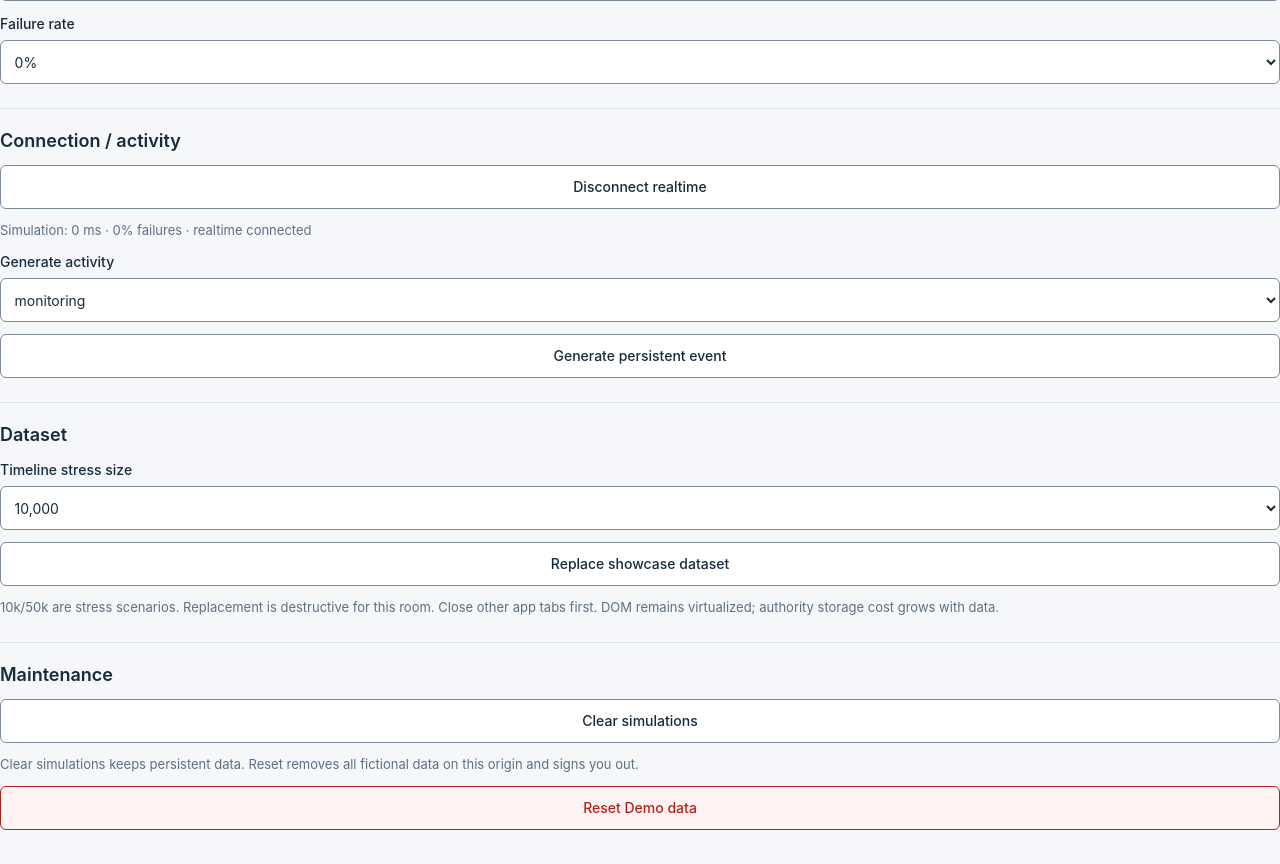
Test: destructive reset requires an explicit decision and cancellation does not remove any data
(page scrolled)
Click the button "Reset Demo data": (640, 808) [0,786,1279,830]
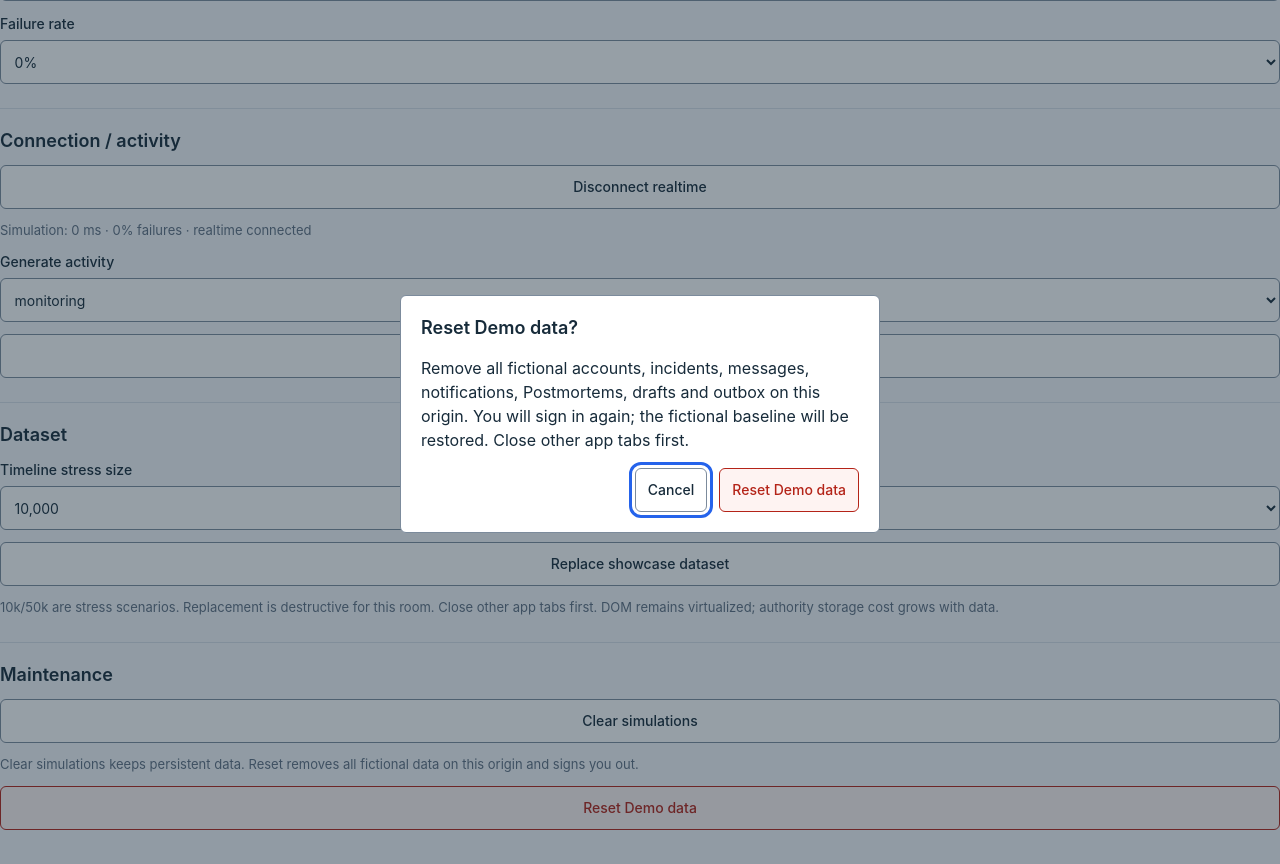
Click the button "Cancel": (671, 490) [635,468,707,512]
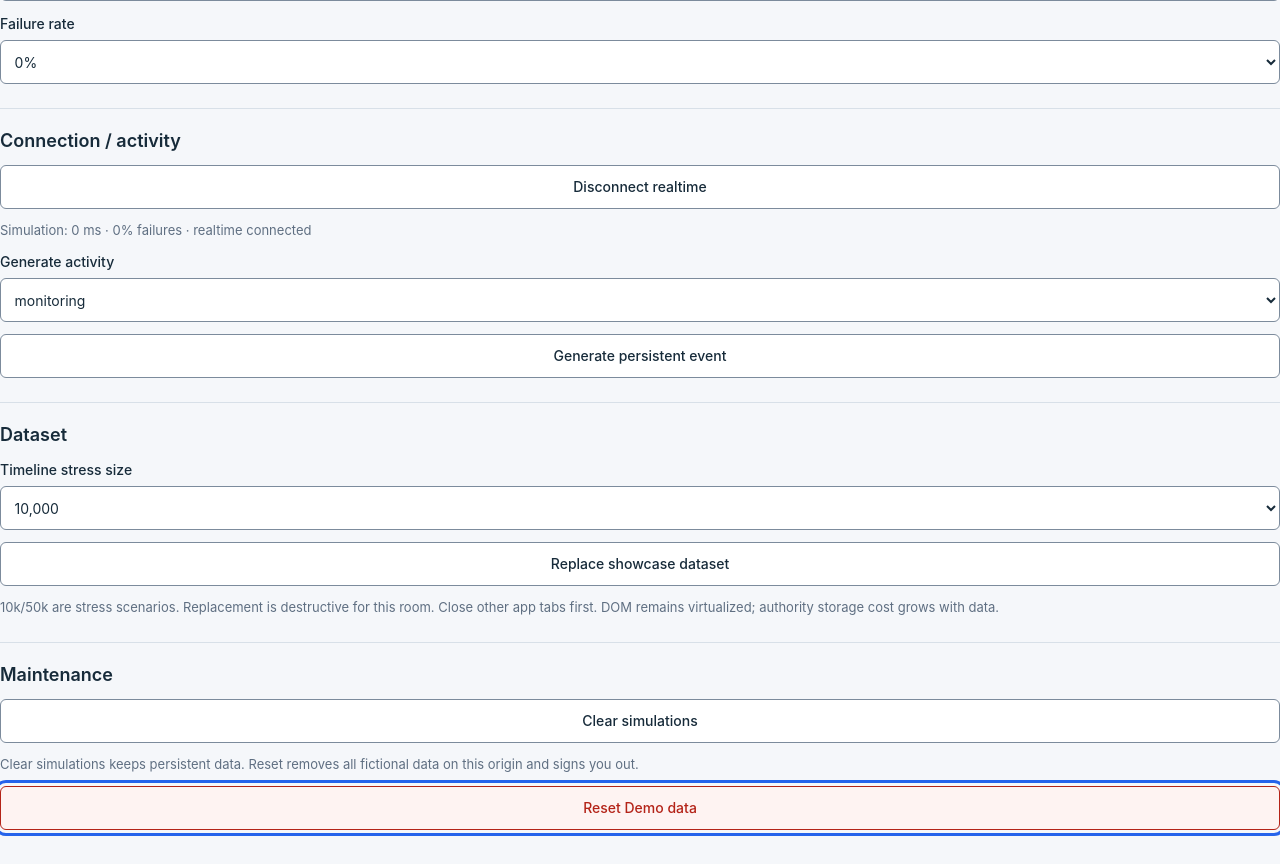
Result: the dialog is gone
